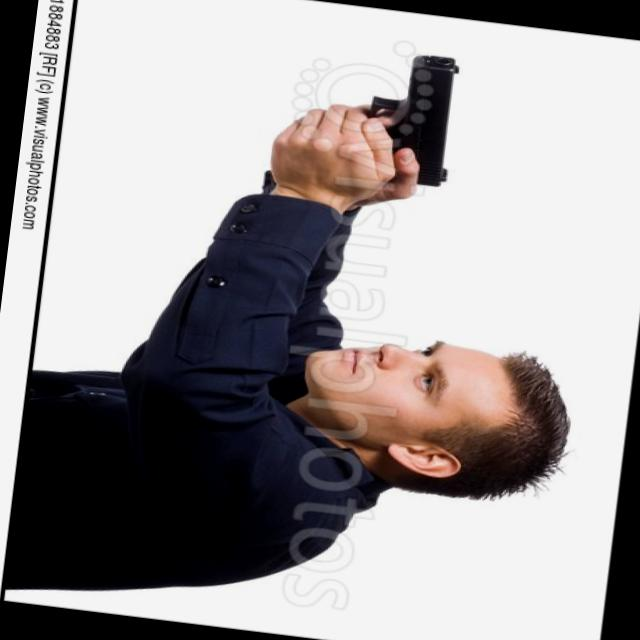handgun: (353, 48, 462, 190)
